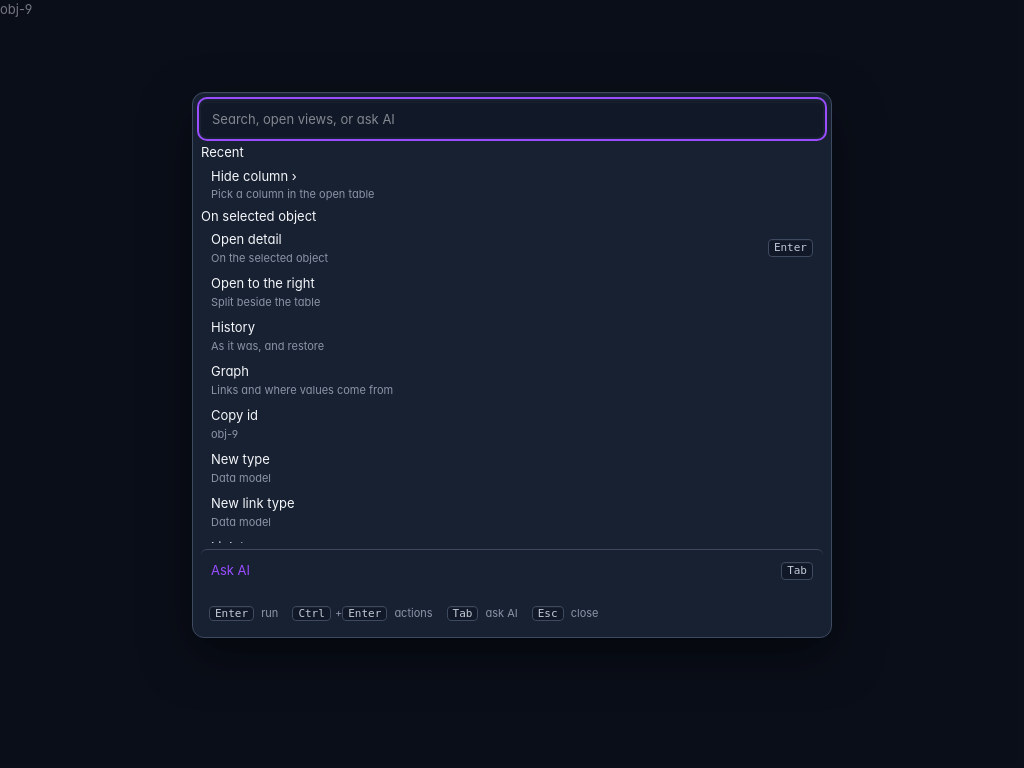
Scenario: palette column entries › opens Select fields from the palette instead of Show column
Step 1. Type "select fields" into the dropdown with test id "palette-input" → (512, 119), box [201, 101, 823, 137]
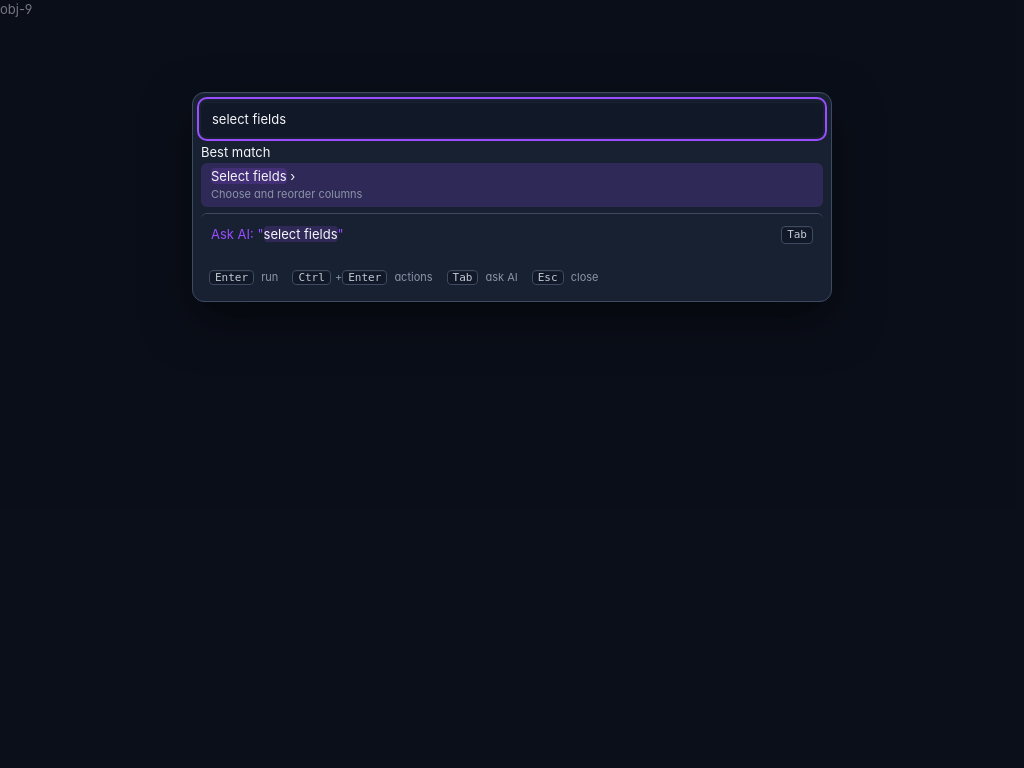
Expected: the option "Select fields › Choose and reorder columns" is shown, [201, 163, 823, 207]
Step 2. Press Enter in the dropdown with test id "palette-input", box [201, 101, 823, 137]
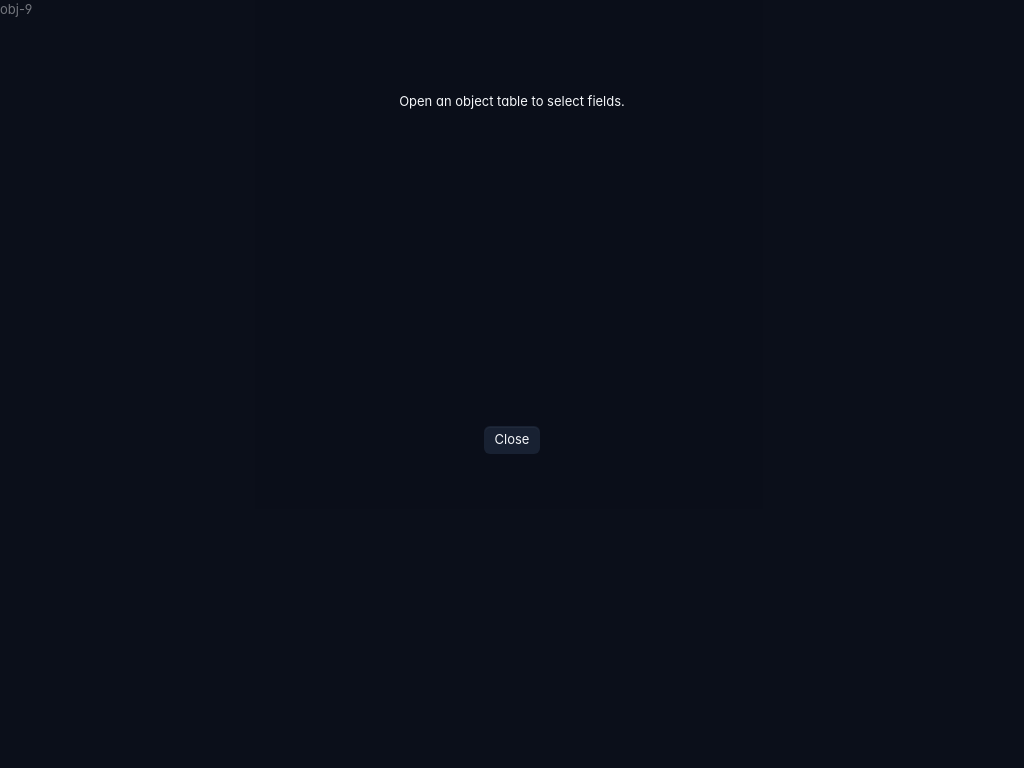
Expected: the text "Open an object table to select fields." is shown, [399, 92, 625, 112]
